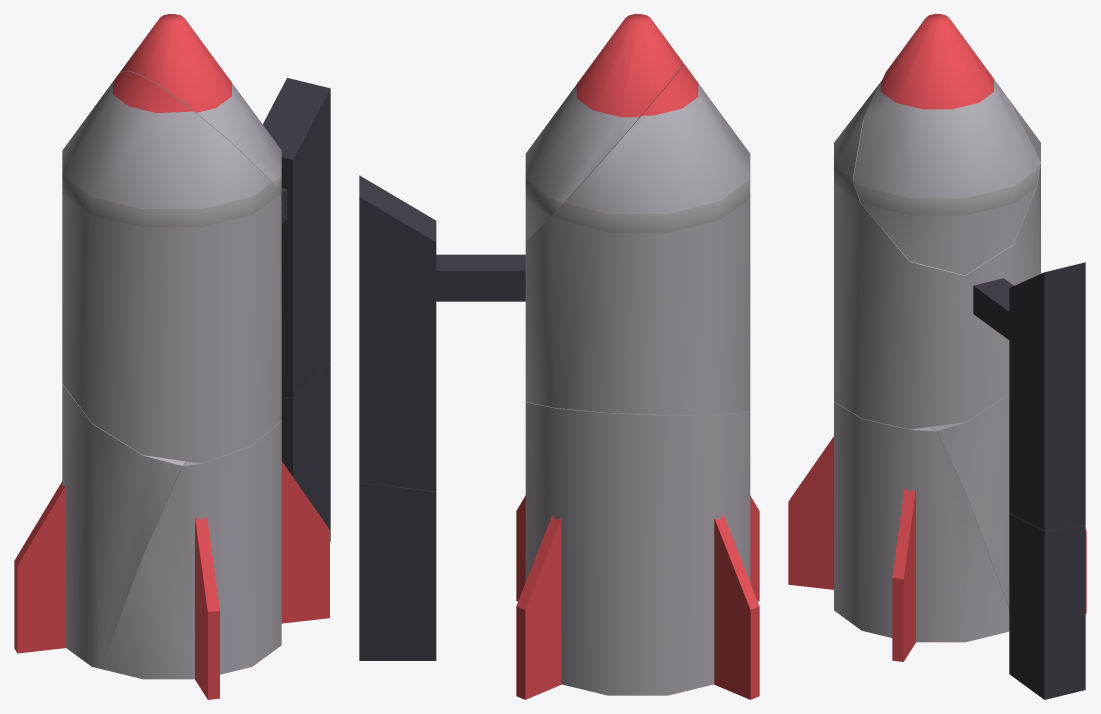
Rendered from NuclearMissle 2_cell.fbx.
The picture shows the model from 3 angles, left to right: view 1: azimuth 30°, elevation 25°; view 2: azimuth 150°, elevation 25°; view 3: azimuth 270°, elevation 25°; orthographic projection. The views are drawn at different scales.
Parts seen in each view (by area): view 1: Nuclear Missle_cell.004, Nuclear Missle_cell.005, Nuclear Missle_cell.006, Nuclear Missle_cell.002, Nuclear Missle_cell.003, Nuclear Missle_cell.001; view 2: Nuclear Missle_cell.006, Nuclear Missle_cell.004, Nuclear Missle_cell.002, Nuclear Missle_cell.003, Nuclear Missle_cell.001, Nuclear Missle_cell.005; view 3: Nuclear Missle_cell.005, Nuclear Missle_cell.004, Nuclear Missle_cell.003, Nuclear Missle_cell.002, Nuclear Missle_cell.001, Nuclear Missle_cell.006.
Part boxes in pixels (x1,y1,x2,y2): Nuclear Missle_cell.004: (62, 71, 281, 463); Nuclear Missle_cell.005: (101, 421, 329, 699); Nuclear Missle_cell.006: (14, 384, 186, 668); Nuclear Missle_cell.002: (263, 78, 330, 397); Nuclear Missle_cell.003: (120, 14, 281, 212); Nuclear Missle_cell.001: (281, 362, 330, 541); Nuclear Missle_cell.006: (516, 402, 759, 699); Nuclear Missle_cell.004: (525, 63, 750, 415); Nuclear Missle_cell.002: (359, 175, 525, 491); Nuclear Missle_cell.003: (525, 14, 683, 241); Nuclear Missle_cell.001: (359, 482, 436, 660); Nuclear Missle_cell.005: (516, 496, 759, 601); Nuclear Missle_cell.005: (788, 401, 1009, 661); Nuclear Missle_cell.004: (834, 81, 1040, 429); Nuclear Missle_cell.003: (853, 14, 1040, 275); Nuclear Missle_cell.002: (973, 262, 1085, 530); Nuclear Missle_cell.001: (1009, 513, 1085, 699); Nuclear Missle_cell.006: (929, 395, 1086, 613).
Size of the model in its own units: 183 by 307 by 142.
